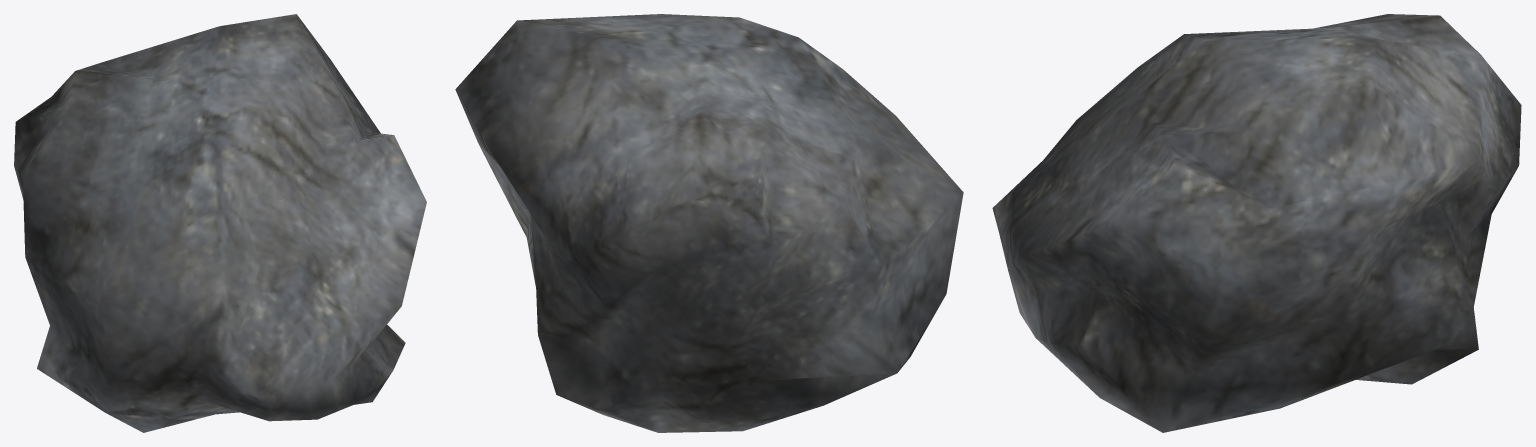
File: Boulder_04.FBX
The picture shows the model from 3 angles, left to right: view 1: azimuth 30°, elevation 25°; view 2: azimuth 150°, elevation 25°; view 3: azimuth 270°, elevation 25°; orthographic projection. The views are drawn at different scales.
Visible parts, largest first — view 1: Boulder_04; view 2: Boulder_04; view 3: Boulder_04.
Boxes of the visible parts, x1=… form: Boulder_04: x1=14, y1=14, x2=426, y2=432; Boulder_04: x1=455, y1=14, x2=963, y2=432; Boulder_04: x1=992, y1=14, x2=1521, y2=432.
Bounding box in the file's own units: 43.12 × 38.79 × 49.82.
